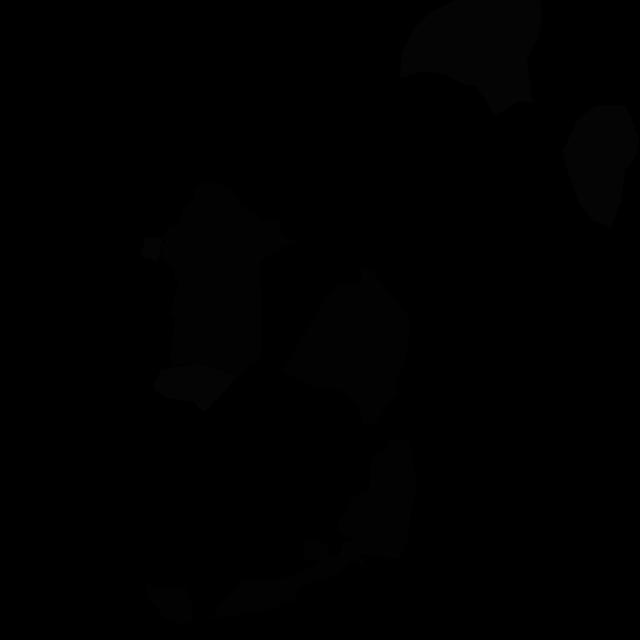cardboard: (160, 182, 298, 375), (281, 268, 410, 426), (209, 539, 366, 620), (338, 440, 417, 559), (146, 585, 193, 623)
soft_plastic: (400, 0, 542, 115), (562, 105, 639, 227), (153, 362, 238, 413), (140, 237, 163, 262)
